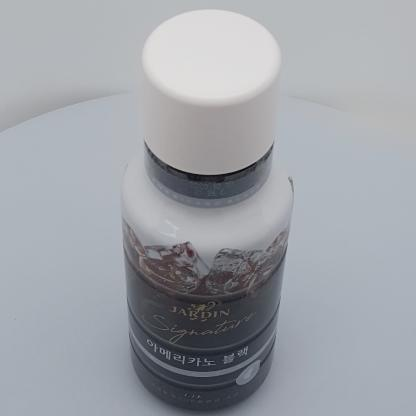-------------1-1L: (120, 8, 294, 414)
